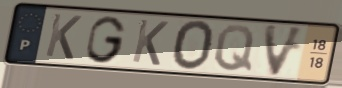G: (84, 14, 129, 65)
K: (42, 11, 85, 62), (129, 17, 171, 68)
O: (170, 18, 217, 73)
Q: (212, 23, 257, 74)
V: (262, 22, 309, 79)
